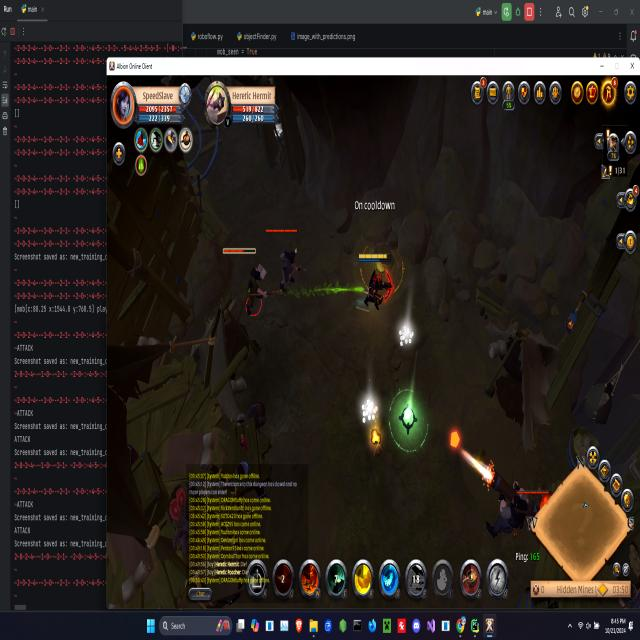ore: (472, 444, 553, 551), (220, 243, 268, 319), (264, 224, 306, 298)
red: (356, 248, 394, 317)
stone: (359, 394, 382, 426), (396, 318, 416, 352)
